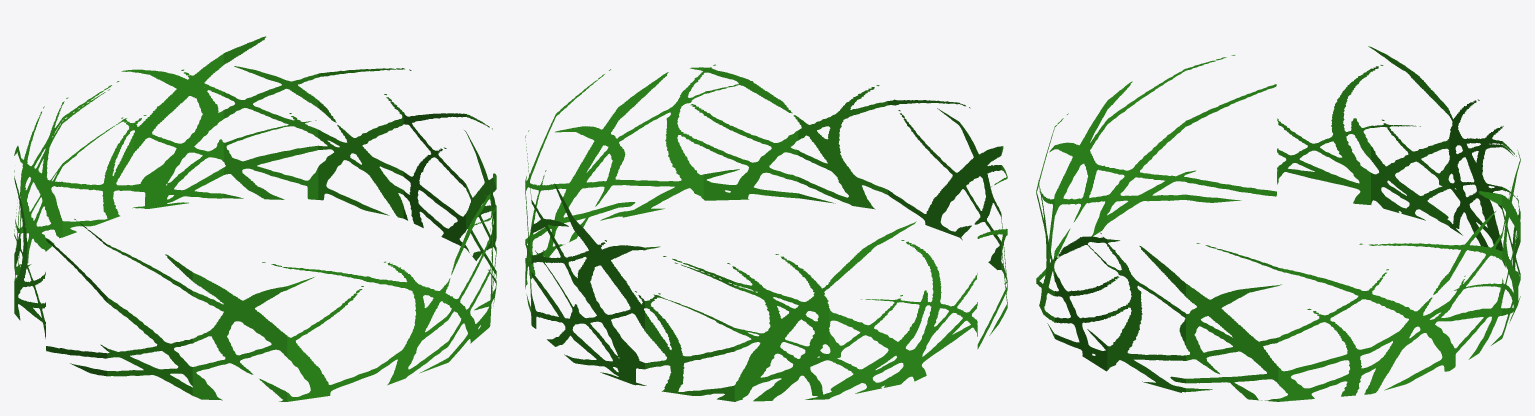
The model's file is OutsideGras.glb.
3 views of the same model, side by side, from view 1: azimuth 30°, elevation 25°; view 2: azimuth 150°, elevation 25°; view 3: azimuth 270°, elevation 25° (orthographic).
Parts seen in each view (by area): view 1: OutsideGras; view 2: OutsideGras; view 3: OutsideGras.
Part boxes in pixels (x1,y1,x2,y2): OutsideGras: (14,36,496,401); OutsideGras: (525,64,1007,401); OutsideGras: (1036,46,1520,401).
Bounding box in the file's own units: 7.75 × 3.24 × 7.75.
Materials: 1 (1 with a texture image).
